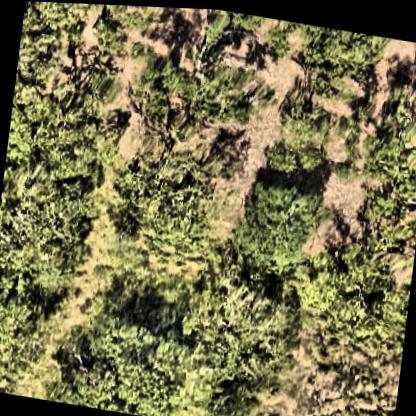tree-top: (174, 261, 312, 394), (294, 227, 414, 344), (101, 146, 225, 259), (100, 310, 210, 416), (141, 48, 252, 150), (10, 169, 100, 281), (234, 167, 324, 275), (21, 85, 111, 190), (341, 81, 416, 199), (272, 16, 384, 87), (0, 268, 54, 399), (347, 176, 416, 256), (262, 104, 332, 177), (42, 345, 120, 410), (21, 1, 100, 64), (88, 3, 159, 56), (191, 369, 269, 416)
